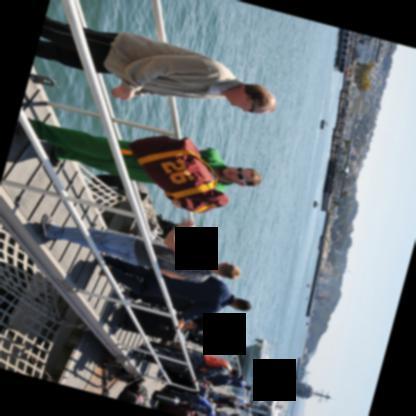suitcase: (124, 134, 232, 212), (121, 305, 177, 342), (186, 332, 235, 354), (165, 379, 208, 399), (151, 390, 179, 404)
